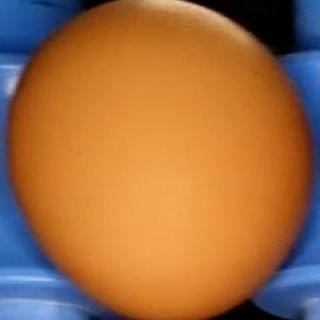Telur: (4, 1, 318, 320)
